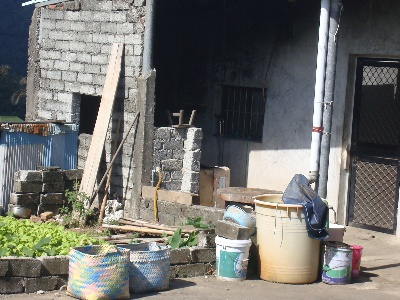bowl: (222, 203, 256, 236)
bucket: (252, 191, 329, 284), (213, 234, 253, 283), (323, 240, 354, 286)
